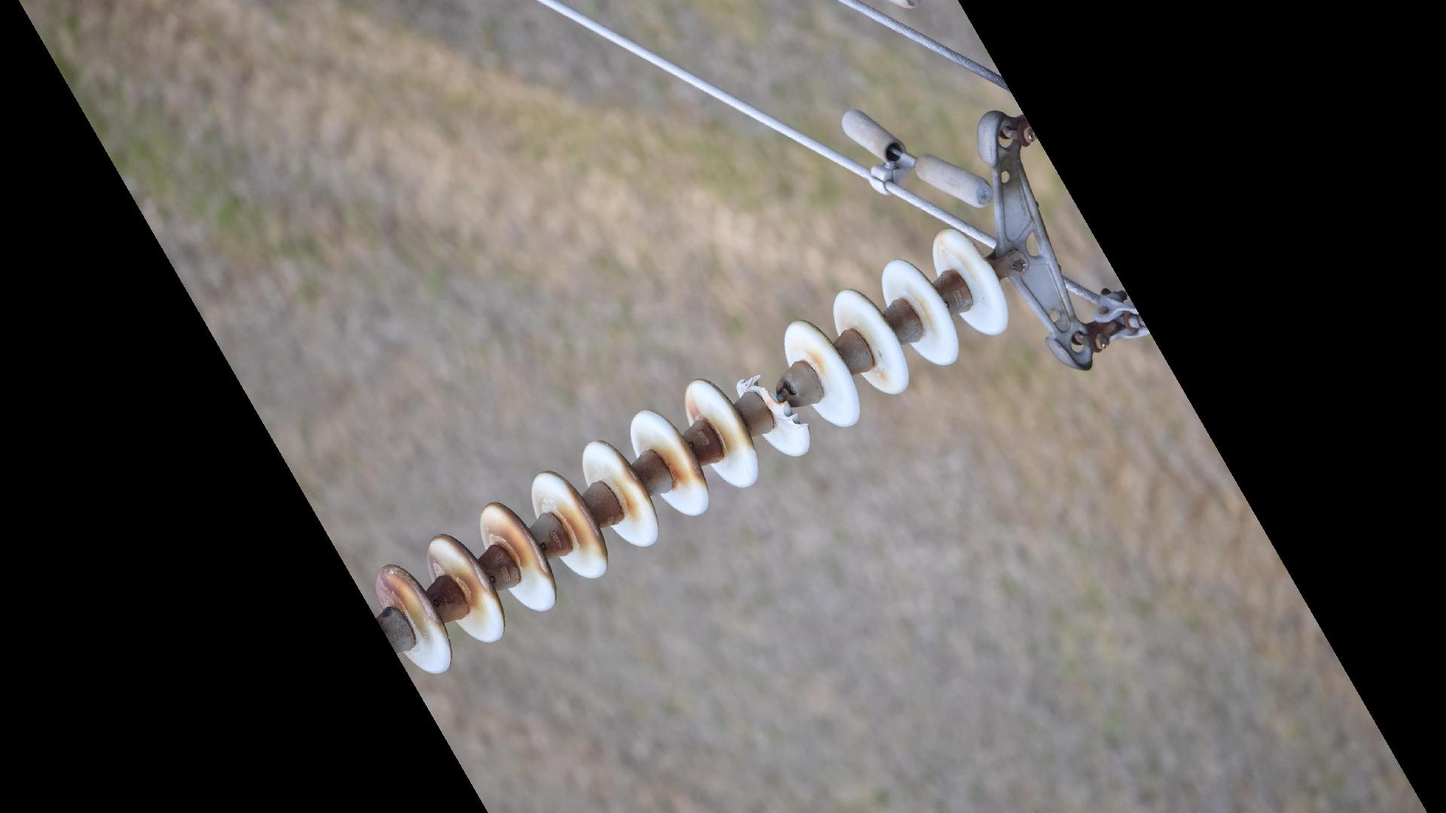insulator: (369, 223, 1018, 681)
insulator_breakage: (730, 370, 813, 436)
